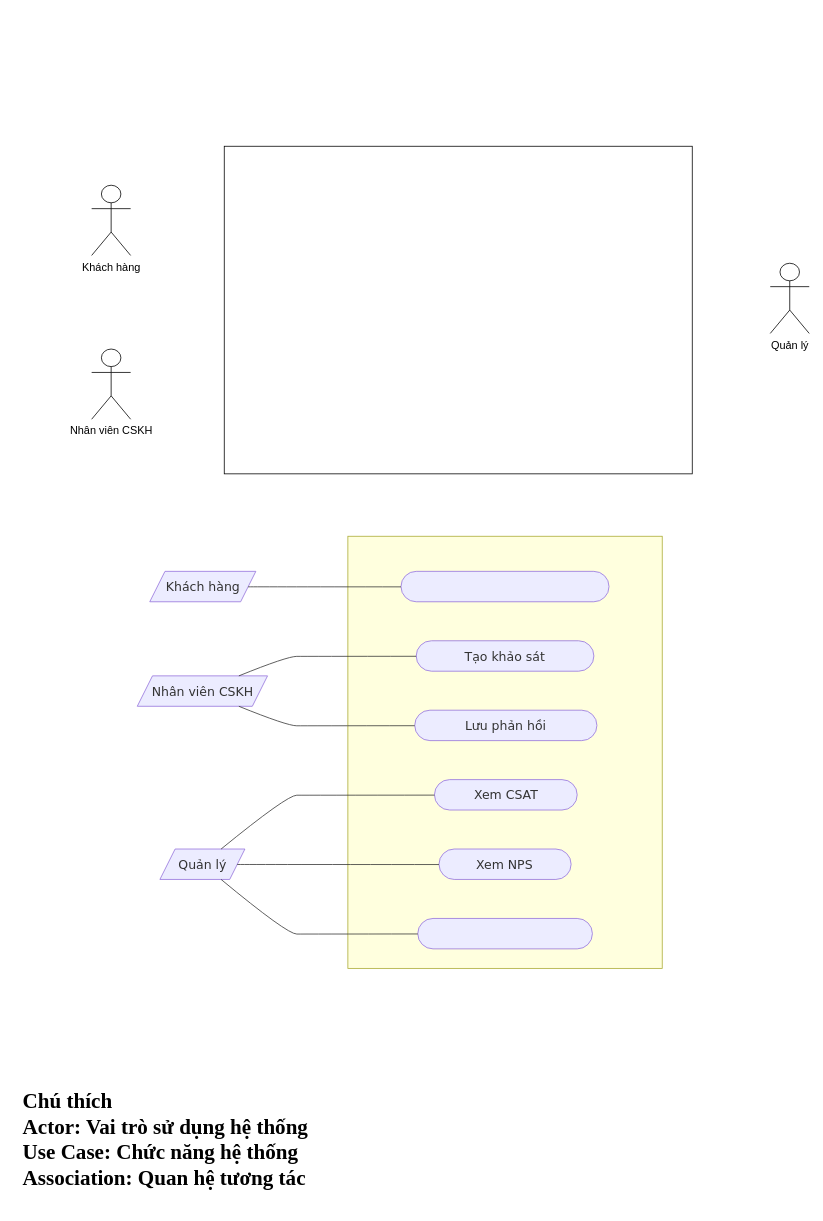
This 823x1221 diagram has some shape labels left out. The box of each missing label's shape, as (x1, y1, x2, y2) in pixels:
Hệ thống Khảo sát hài lòng CSAT/NPS: (347, 535, 662, 968)
Hệ thống Khảo sát hài lòng CSAT/NPS (Use Cases): (223, 145, 692, 474)
Trả lời khảo sát: (400, 571, 609, 602)
Xem báo cáo: (417, 918, 592, 949)
